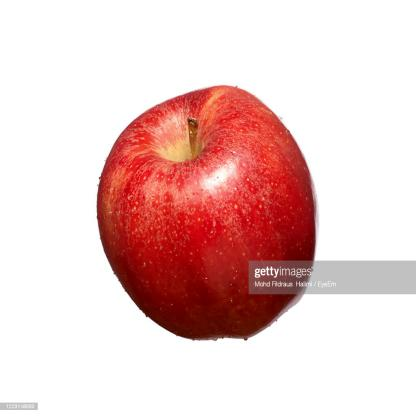Apple: (99, 86, 322, 348)
